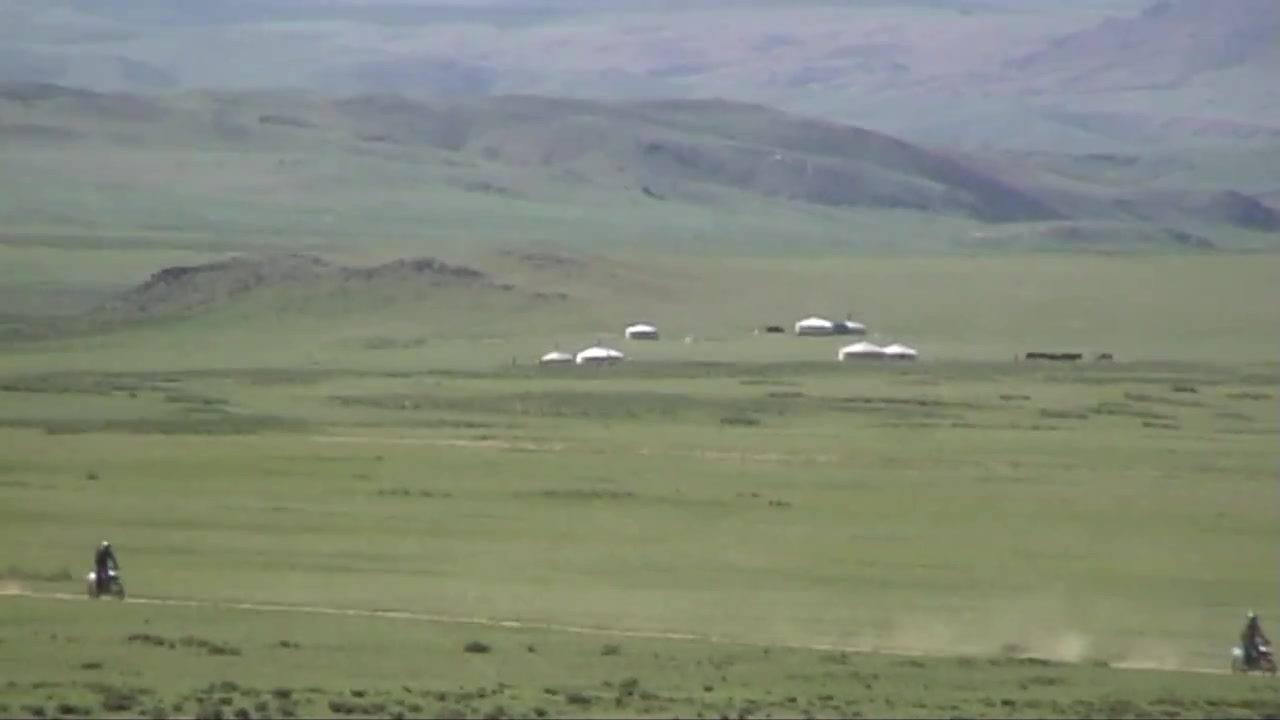motorbike: (1228, 642, 1279, 678), (85, 566, 132, 603)
